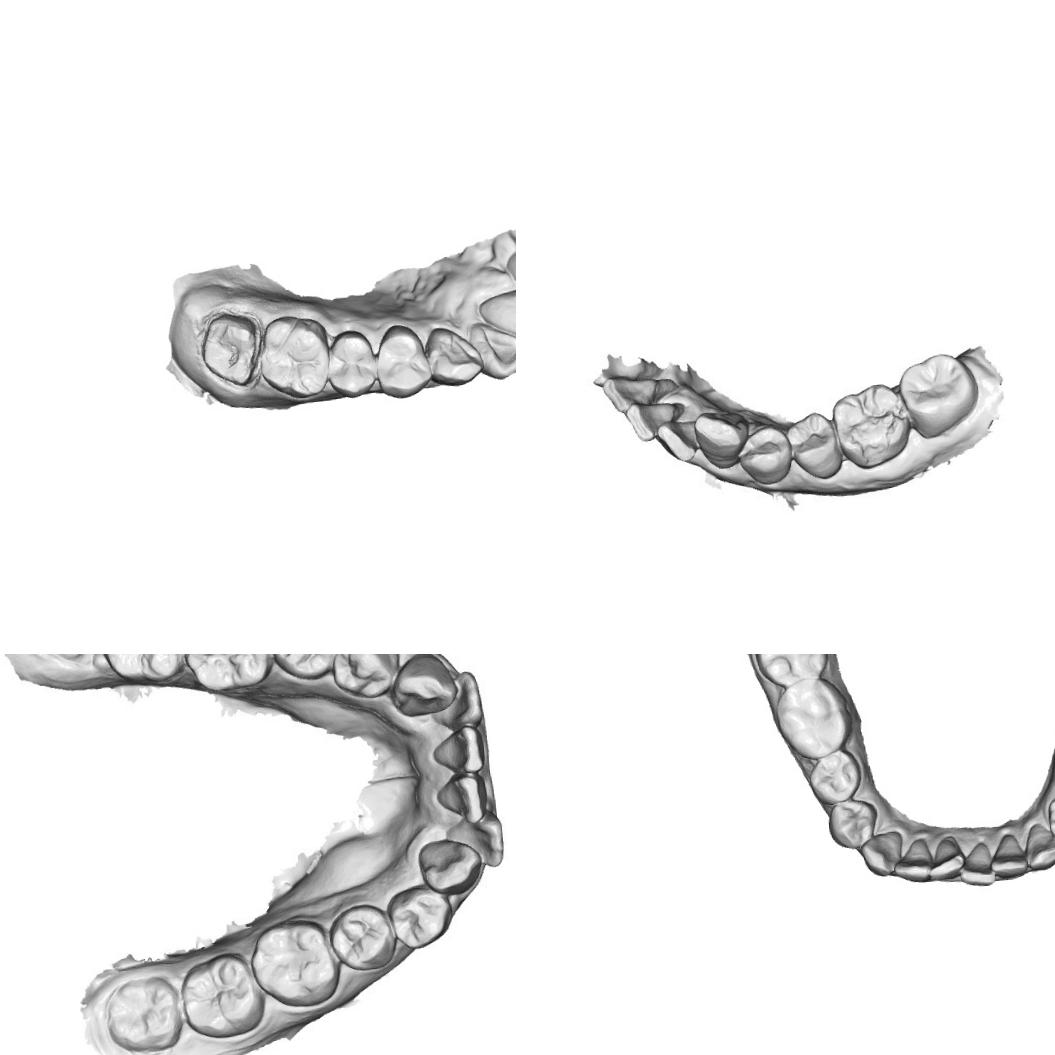canine: (422, 322, 486, 390), (692, 406, 754, 472), (395, 654, 455, 721), (419, 836, 480, 892), (856, 829, 904, 880), (1021, 819, 1055, 872)
crown: (190, 304, 267, 391)
incisor: (432, 724, 490, 781), (466, 316, 516, 382), (435, 670, 487, 732), (454, 808, 506, 868), (624, 397, 688, 443), (599, 370, 664, 414), (475, 284, 516, 353), (436, 768, 488, 818), (890, 834, 935, 888), (986, 830, 1030, 882), (925, 834, 967, 886), (655, 417, 701, 464), (955, 840, 997, 890)
molar: (250, 920, 338, 1012), (829, 380, 914, 474), (771, 672, 856, 764), (899, 347, 980, 442), (254, 309, 336, 402), (180, 952, 264, 1037), (100, 973, 186, 1055), (180, 654, 276, 689), (749, 654, 830, 688), (99, 654, 191, 683)
premolar: (371, 320, 434, 402), (386, 880, 456, 952), (783, 408, 844, 483), (324, 324, 379, 402), (332, 902, 396, 969), (734, 424, 794, 488), (805, 748, 864, 805), (825, 796, 881, 852), (332, 654, 398, 701), (274, 654, 335, 680), (1044, 790, 1055, 844)
